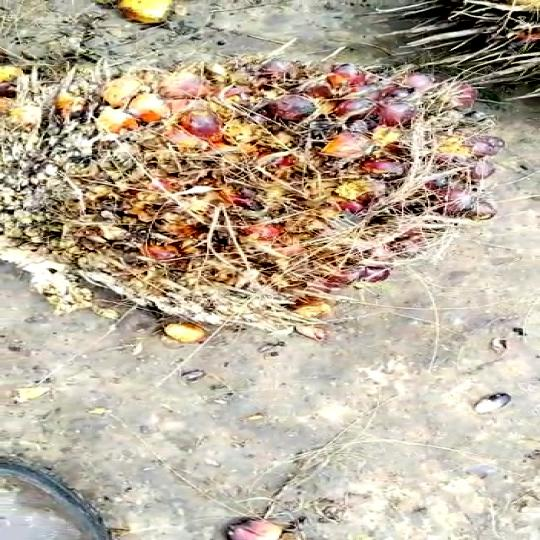masak: (32, 46, 509, 346)
